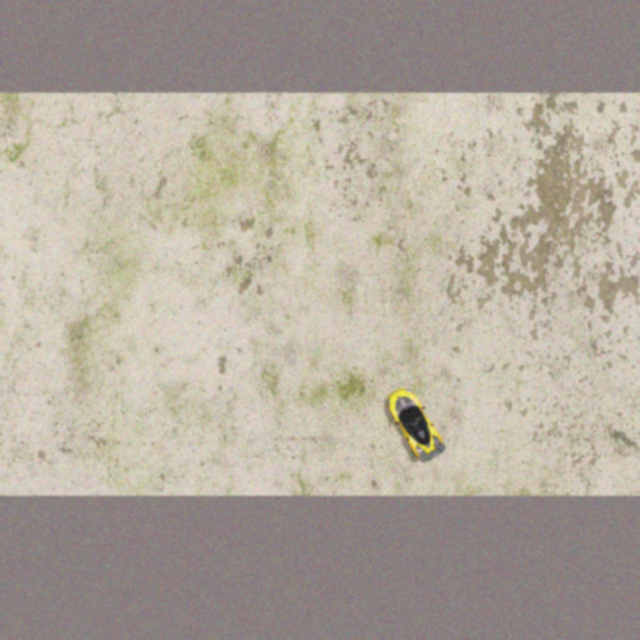car: (380, 382, 451, 467)
